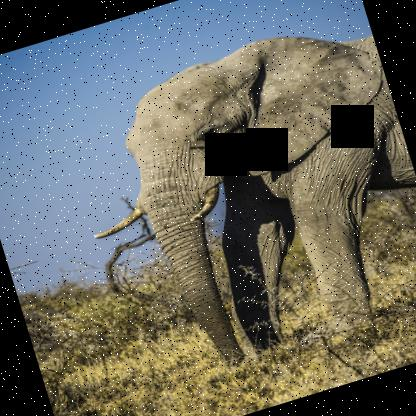Elephas-maximus: (48, 5, 415, 415)
